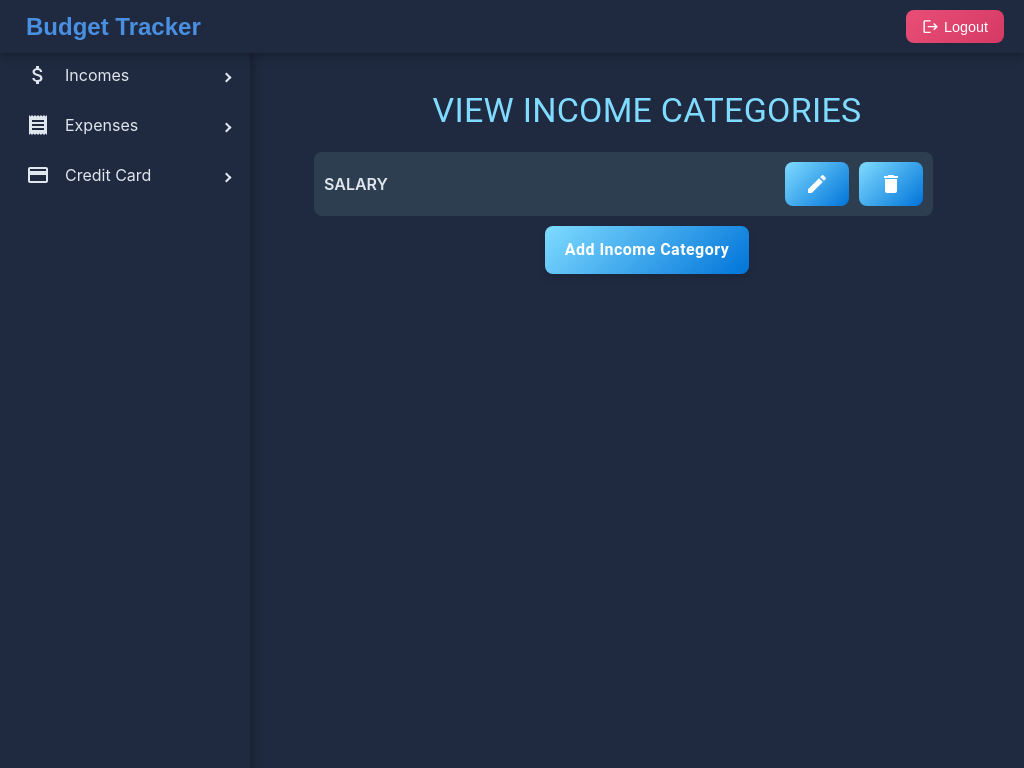
Test: ViewIncomeCategory View › handles errors when editing a category
Check: the text "Salary" is shown, box [324, 174, 388, 194]
# Click edit
Click the button with test id "EditIcon".
click(817, 184)  # box [785, 162, 849, 206]
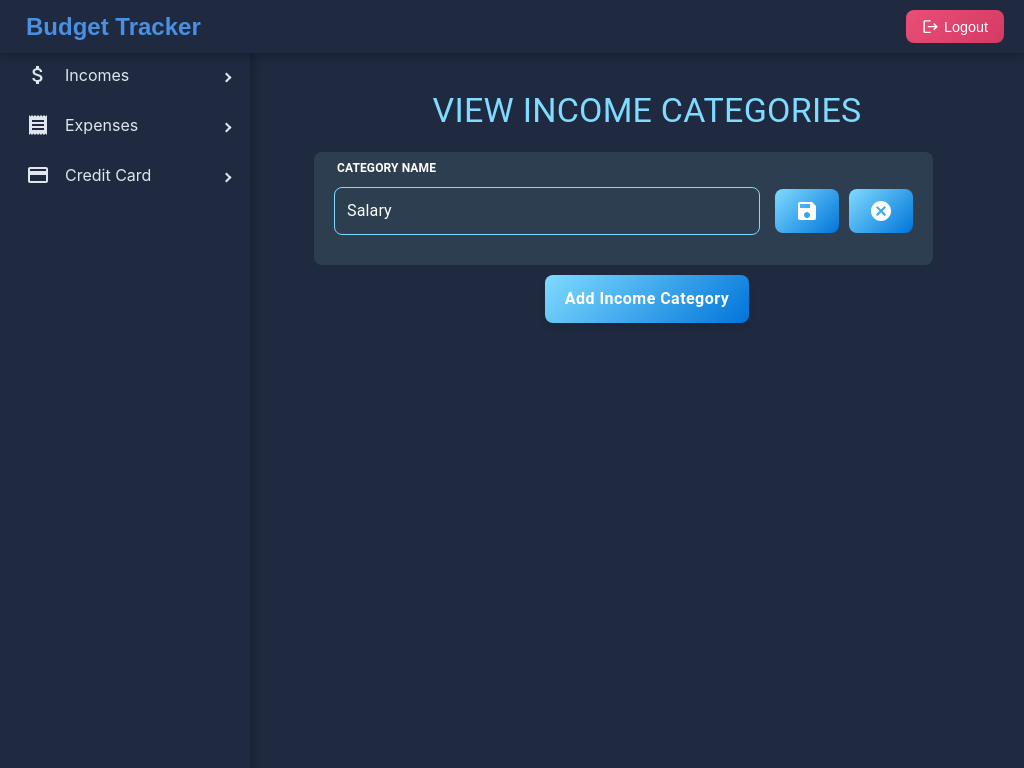
# Clear the input and click save
Clear the field labelled "Category Name" at (547, 211), box [347, 200, 747, 222]
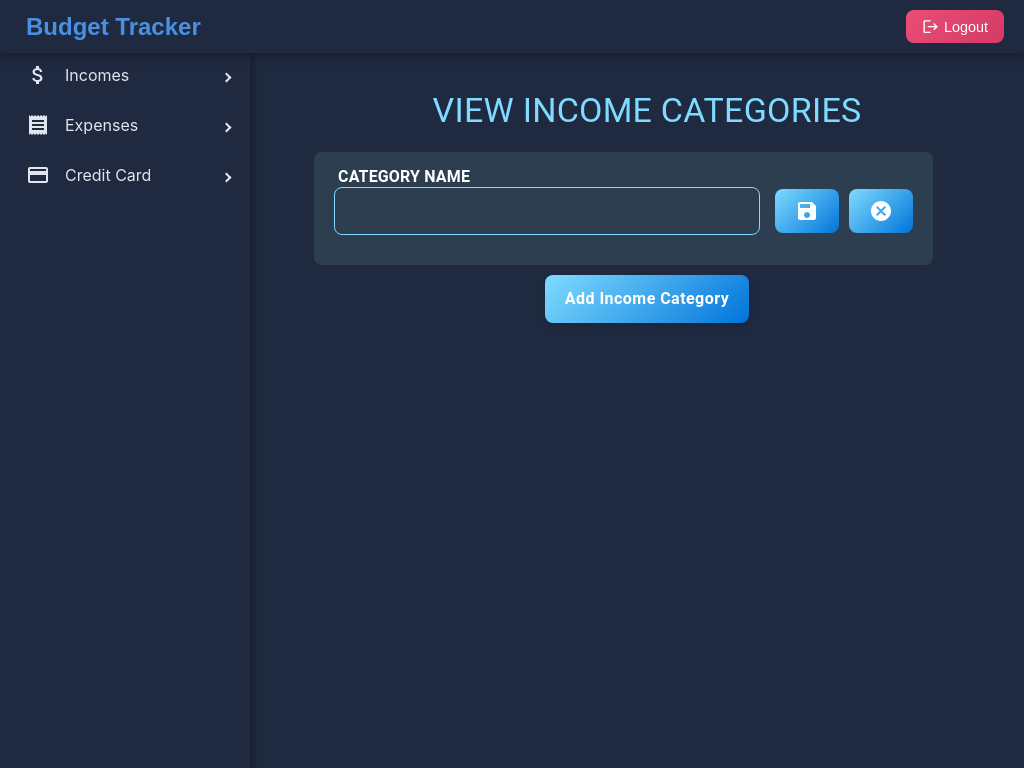
Click the button with test id "save-button".
click(807, 211)  # box [775, 189, 839, 233]
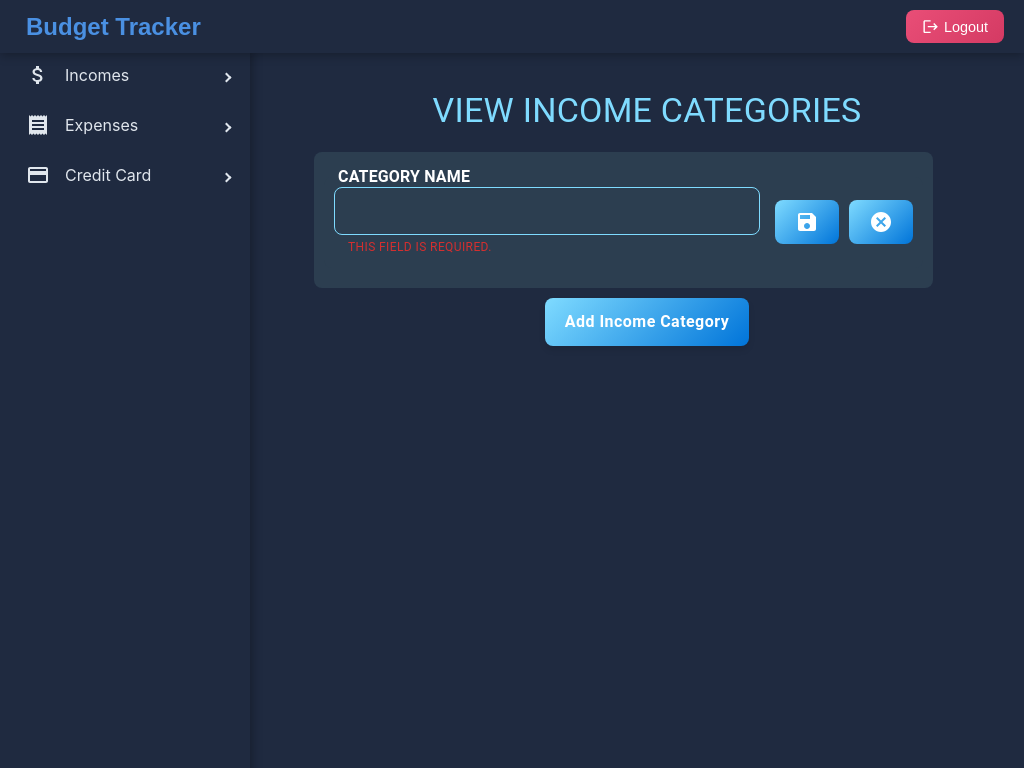
Check: the text "This field is required." is shown, box [348, 240, 492, 254]
